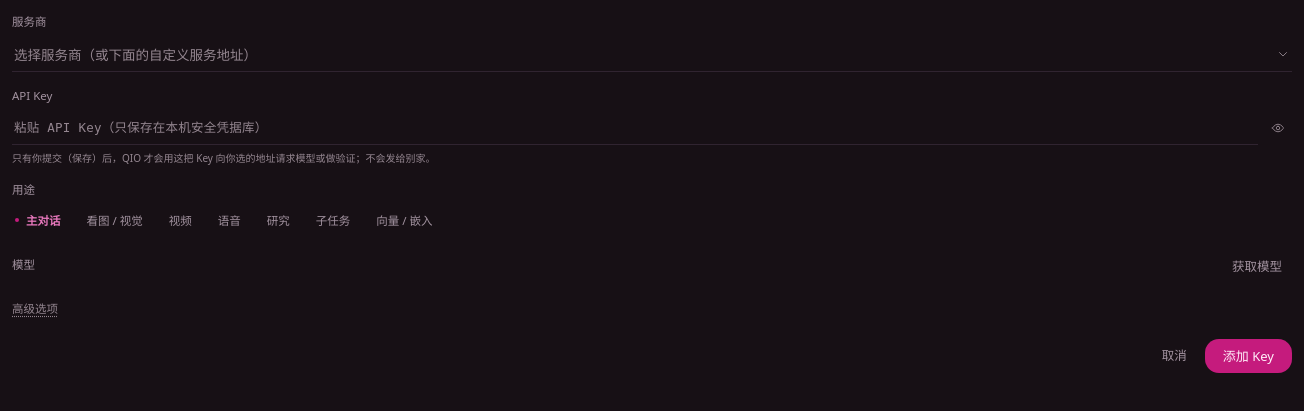
Scenario: Key 接入 · 正常流程 › 本地 Key 前缀提示写明「未验证」，不声称已经识别成功
The width and height of the screenshot is (1304, 411).
In the password field with id "key-secret": x=635, y=128 [12,111,1258,145], type "sk-ant-api03-fake"
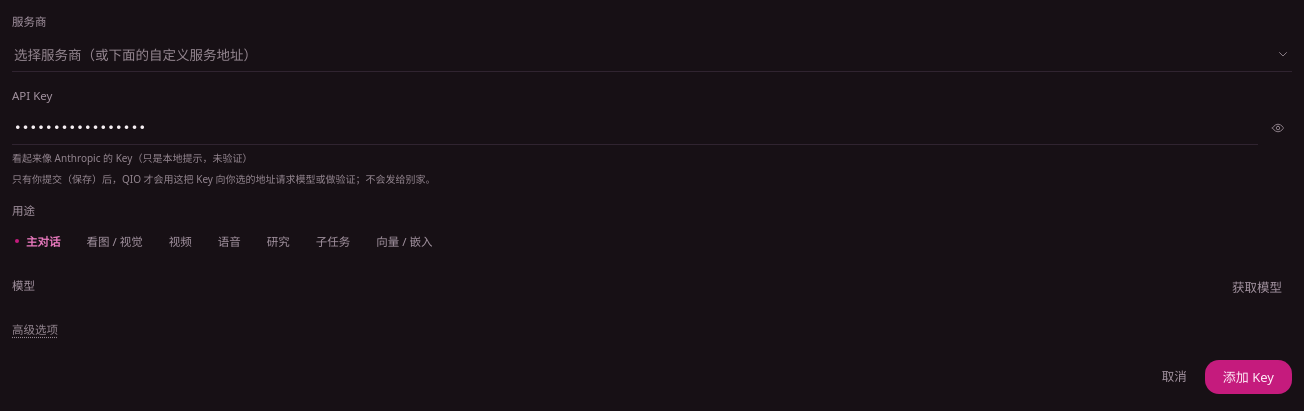
Check: the text "看起来像 Anthropic 的 Key（只是本地提示，未验证）" is shown, box [12,151,252,165]
